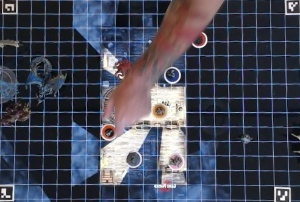blue: (162, 64, 182, 85)
orange: (98, 122, 118, 141)
pink: (166, 150, 185, 171)
red: (191, 28, 208, 48)
violet: (126, 148, 143, 168)
yellow: (153, 101, 168, 119)
